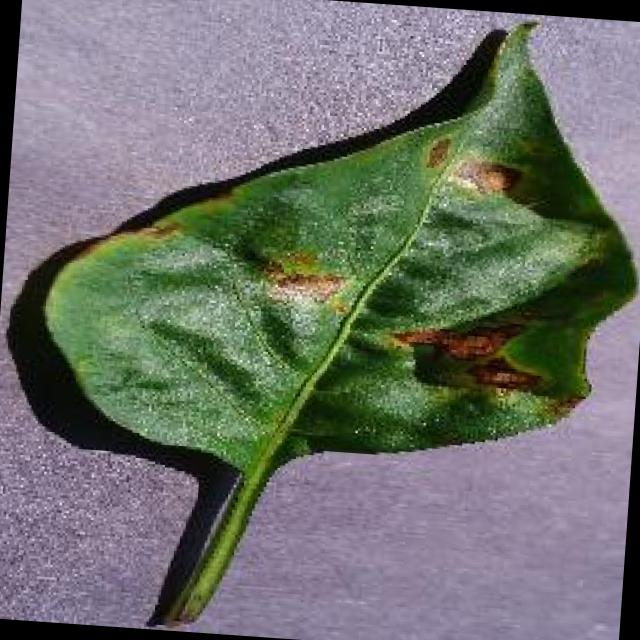Chilli_Bacterial_Spot: (6, 0, 640, 640), (241, 120, 568, 403), (383, 310, 548, 398), (414, 128, 528, 204), (248, 240, 350, 309), (388, 315, 518, 369), (454, 154, 522, 201), (432, 324, 507, 366), (468, 356, 543, 396), (260, 241, 322, 283), (469, 160, 514, 195), (418, 132, 454, 174)
